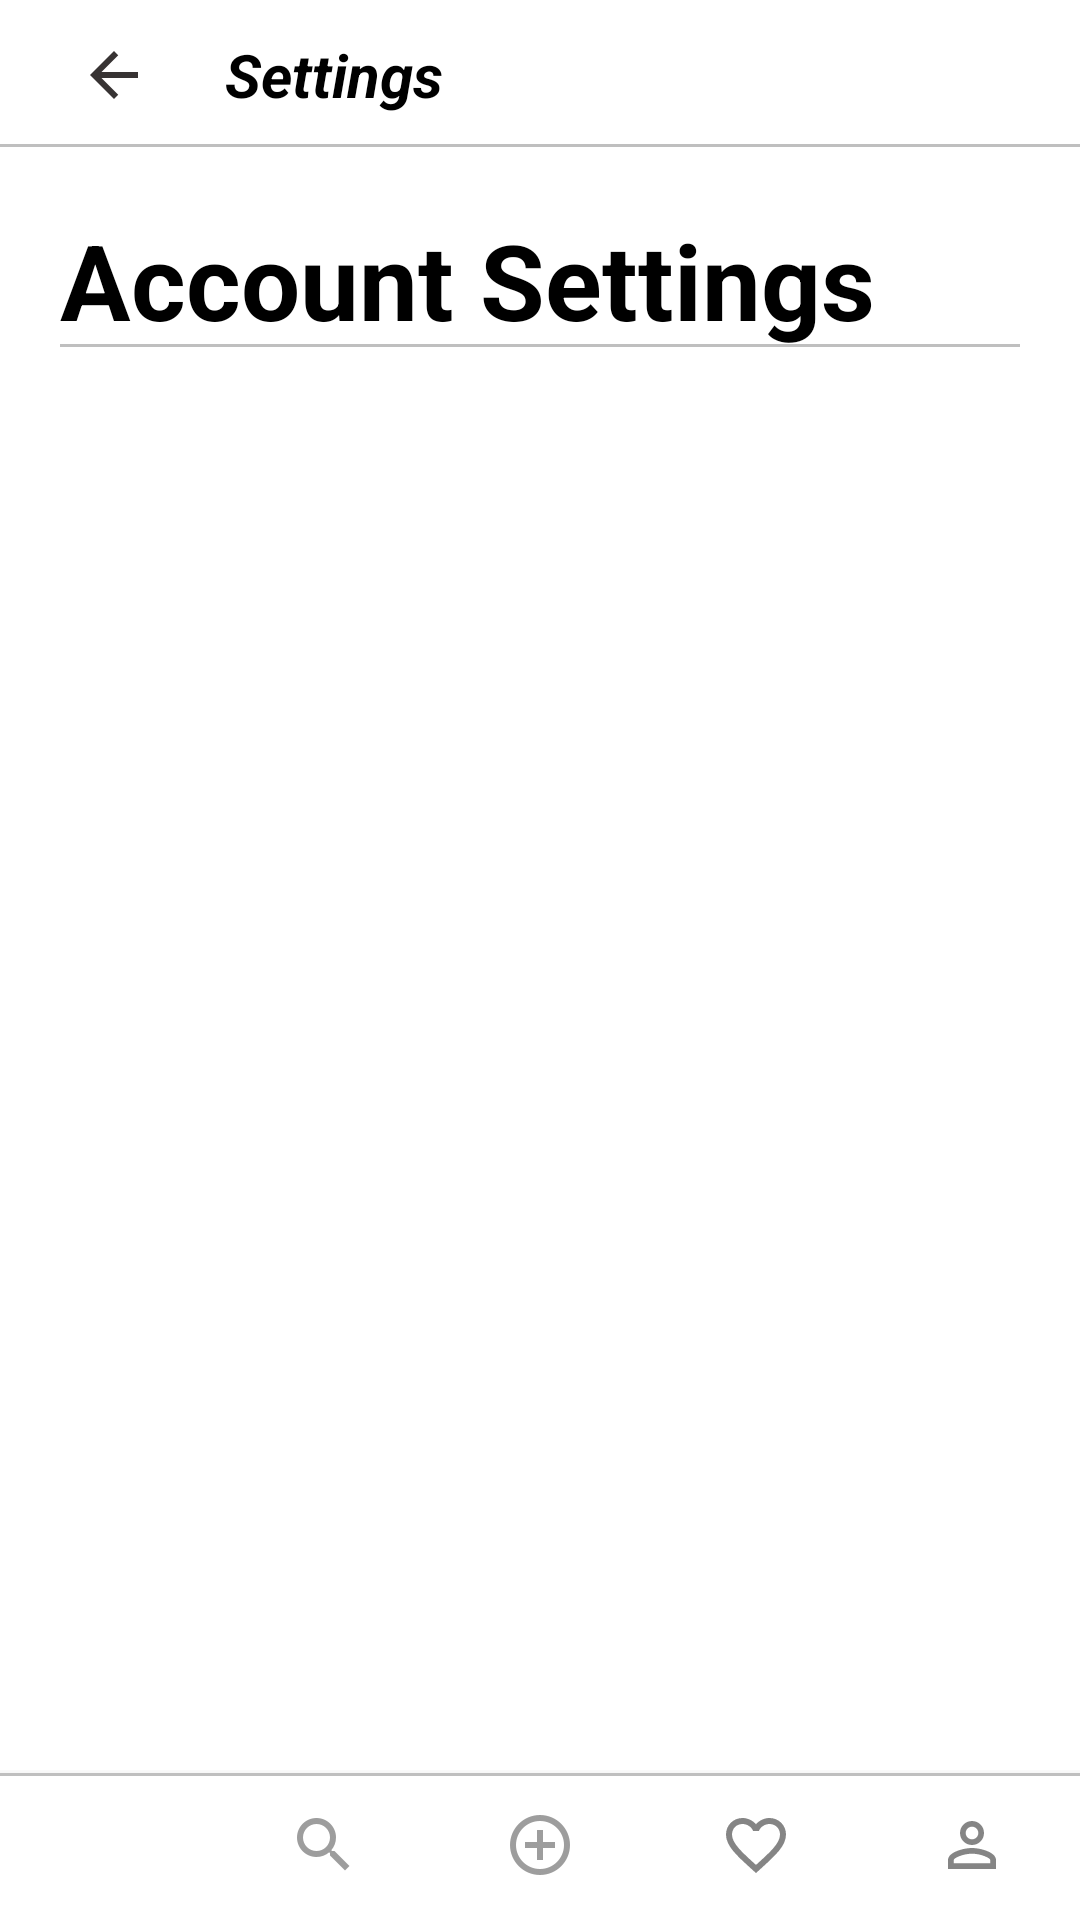

Named icons in this screenshot (1080w x 1920h) and their centers, (x,y):
back arrow: (114,75)
